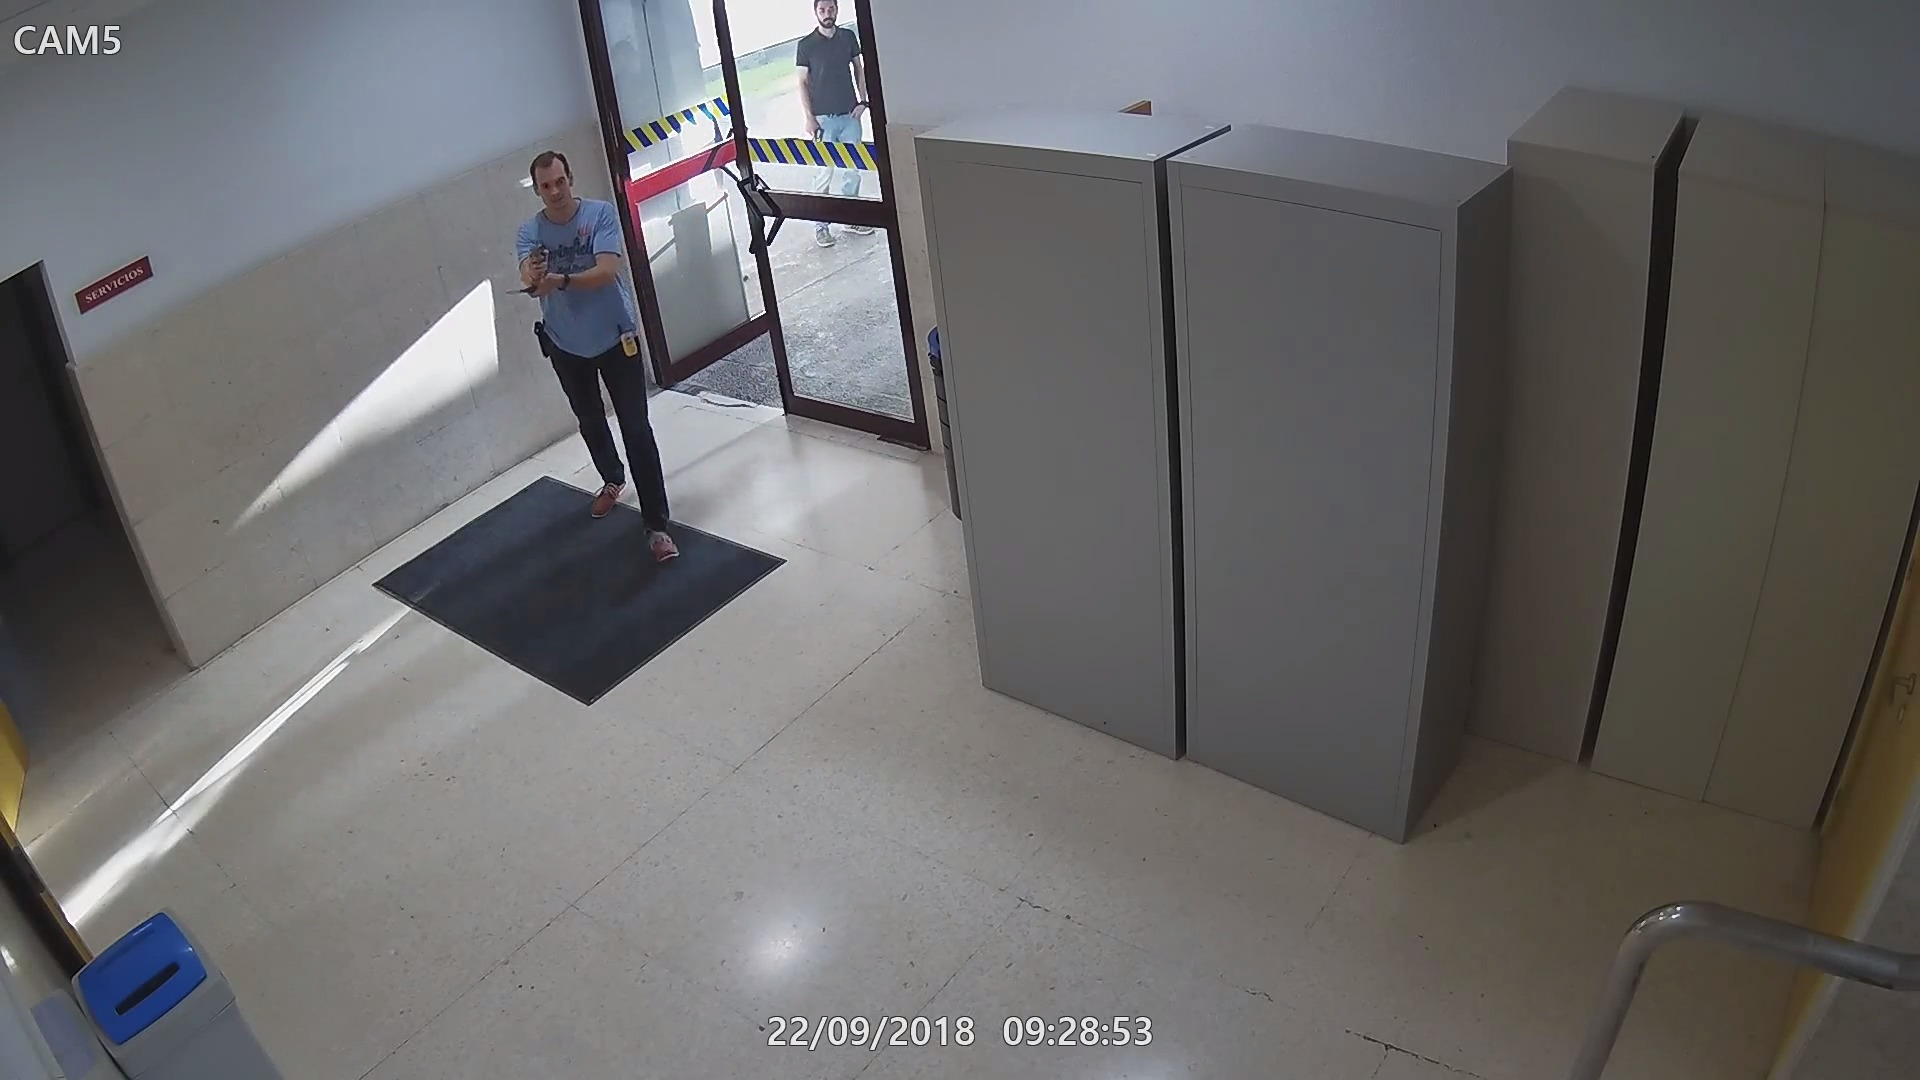Handgun: (524, 239, 550, 289)
Knife: (502, 274, 560, 301)
